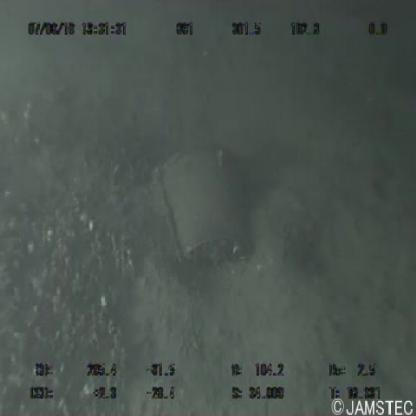Rác: (145, 134, 254, 274)
